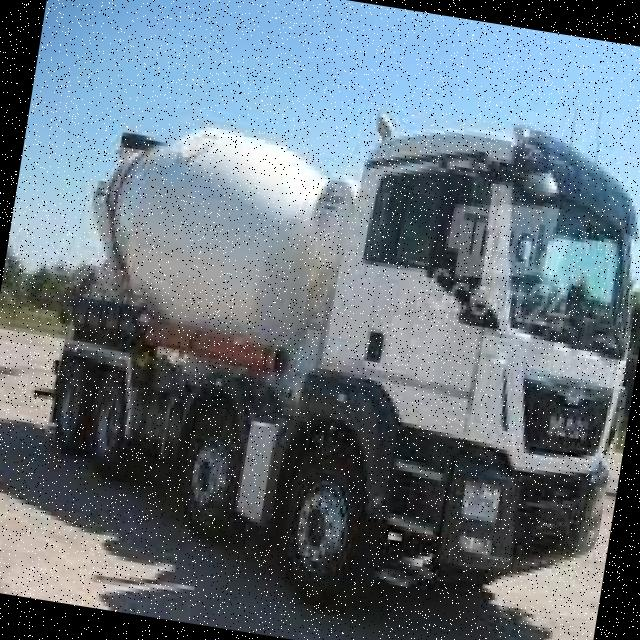Mixer Truck: (2, 54, 640, 640)
